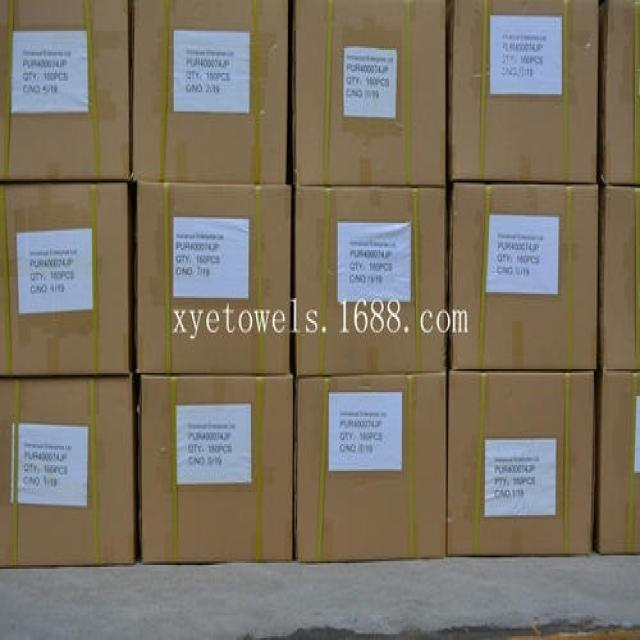box: (136, 183, 292, 374), (138, 376, 295, 564), (294, 187, 447, 378), (290, 2, 447, 185), (132, 2, 289, 183), (297, 374, 448, 561), (447, 372, 599, 557), (450, 186, 598, 372), (448, 2, 597, 184), (1, 180, 131, 377), (0, 374, 133, 565), (0, 1, 131, 180), (595, 371, 639, 555), (598, 0, 639, 186), (598, 187, 639, 371)
